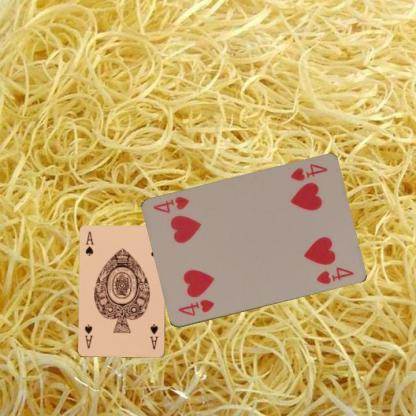4h: (288, 161, 328, 183), (175, 297, 216, 318)
As: (83, 229, 95, 257), (148, 322, 159, 351)
